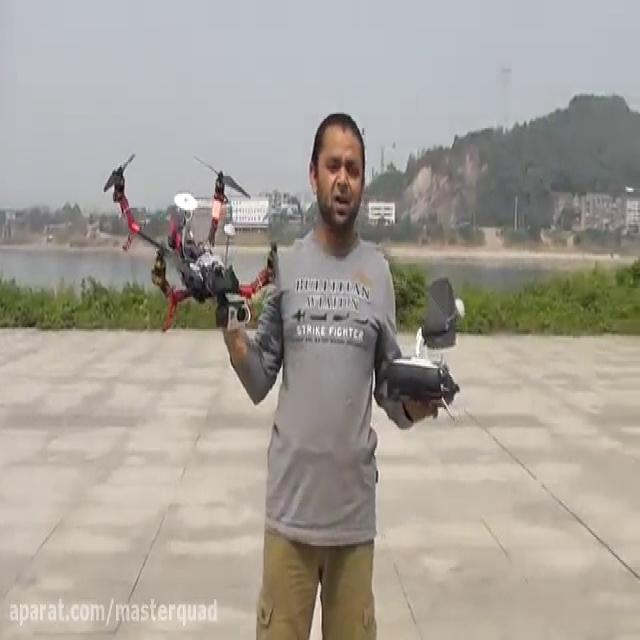drone: (101, 144, 281, 334)
